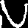N: (0, 0, 28, 28)
